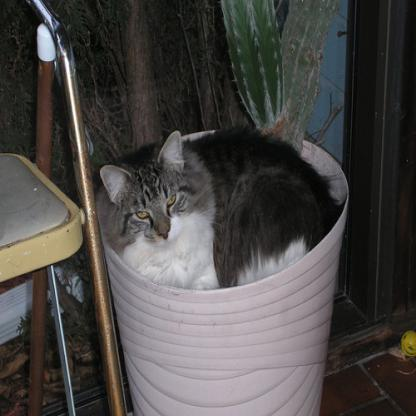cat: (98, 127, 332, 290)
